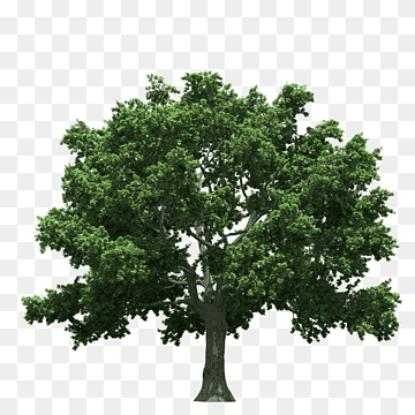tree: (23, 65, 404, 405)
